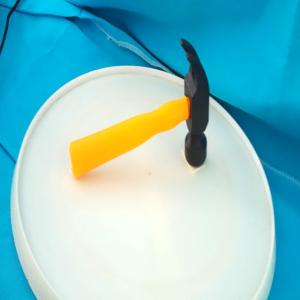martelo: (68, 38, 210, 180)
